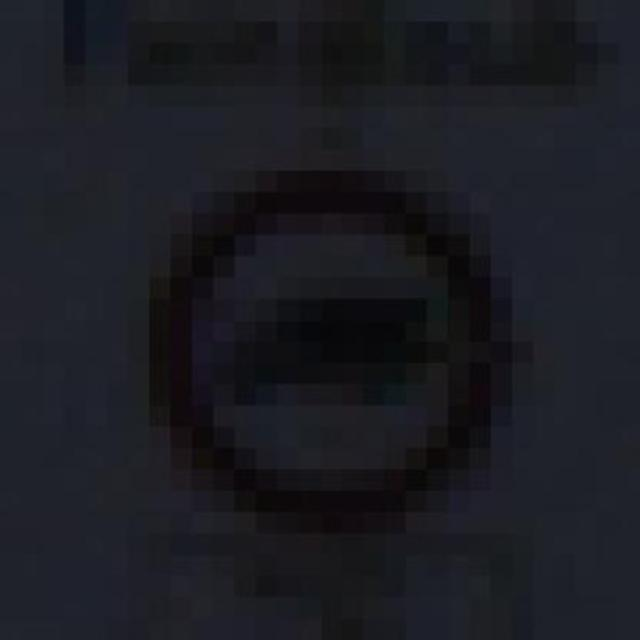Truck traffic is prohibited: (106, 128, 534, 534)
